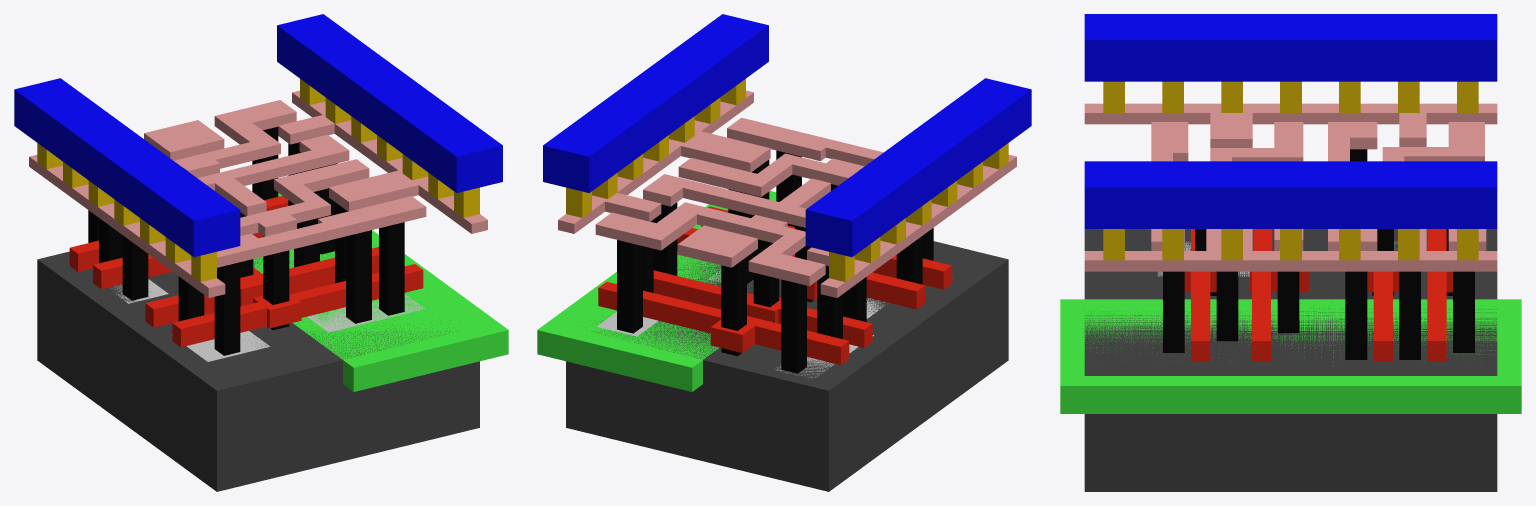
Rendered from sky130_fd_sc_hd__dlygate4sd1_1.obj.
The picture shows the model from 3 angles, left to right: view 1: azimuth 30°, elevation 25°; view 2: azimuth 150°, elevation 25°; view 3: azimuth 270°, elevation 25°; orthographic projection. The views are drawn at different scales.
Parts seen in each view (by area): view 1: subs, metal1, li, licon, nwell, poly, mcon, diff, tap; view 2: subs, metal1, li, licon, poly, nwell, mcon, diff; view 3: metal1, subs, nwell, li, licon, mcon, poly.
Part boxes in pixels (x1,y1,x2,y2): subs: (37,251,479,491); metal1: (14,14,502,257); li: (29,90,487,297); licon: (88,126,404,355); nwell: (253,193,508,391); poly: (69,195,423,347); mcon: (37,79,479,281); diff: (111,279,270,361); tap: (308,294,424,332); subs: (566,209,1008,491); metal1: (543,14,1031,257); li: (558,90,1016,297); licon: (617,150,933,373); poly: (598,206,952,364); nwell: (537,191,776,391); mcon: (566,79,1008,281); diff: (774,298,885,377); metal1: (1084,14,1497,228); subs: (1084,229,1497,491); nwell: (1060,299,1521,413); li: (1084,103,1497,271); licon: (1163,149,1474,359); mcon: (1103,81,1478,260); poly: (1184,229,1452,361).
Size of the model in its own units: 3.2 by 2.74 by 3.6.
